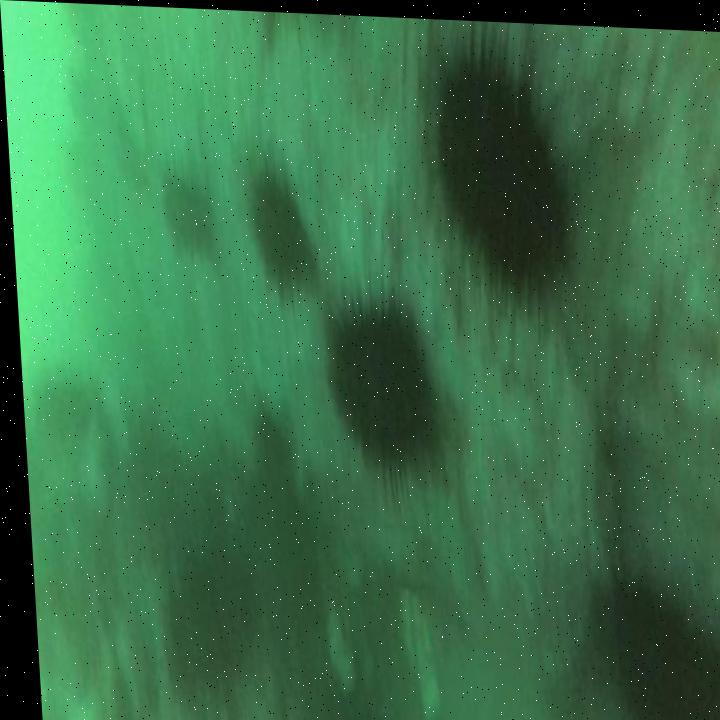echinus: (409, 16, 588, 345), (310, 264, 454, 511), (233, 141, 329, 322), (143, 154, 219, 265)
